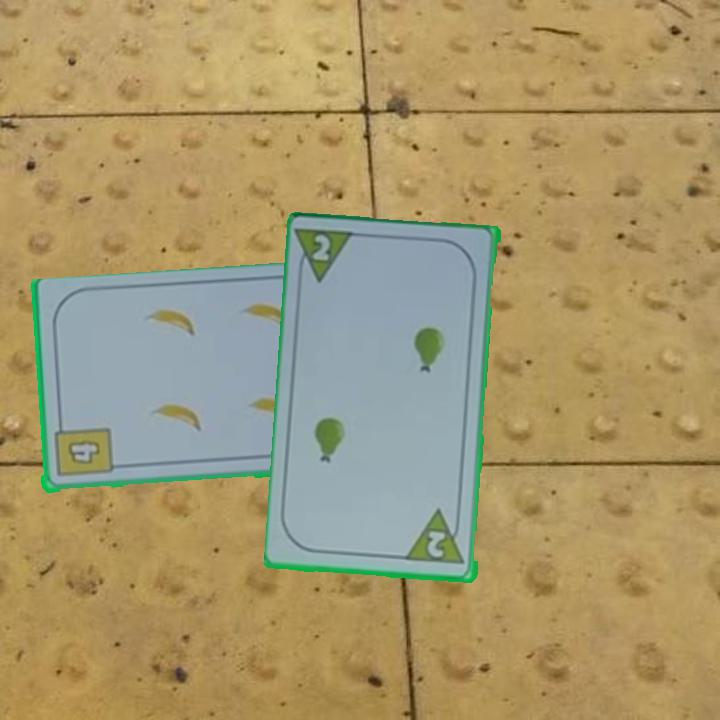2p: (405, 507, 468, 568), (309, 231, 334, 265)
4b: (50, 418, 114, 481)
